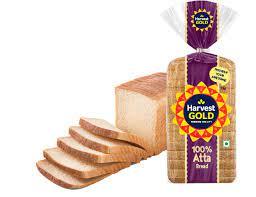bread: (154, 7, 246, 190), (53, 110, 136, 187), (110, 69, 174, 156), (23, 135, 102, 192)
